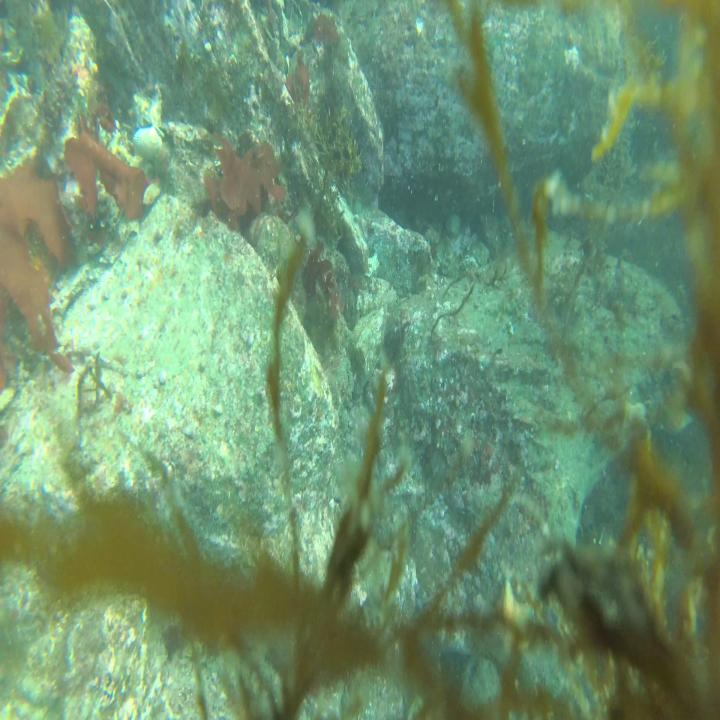scallop: (131, 127, 165, 162)
